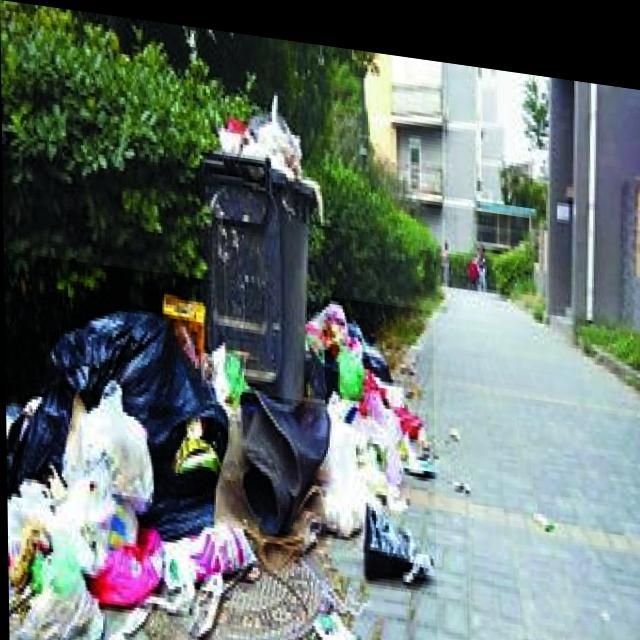garbage: (3, 251, 436, 640)
overflow: (197, 72, 324, 394)
